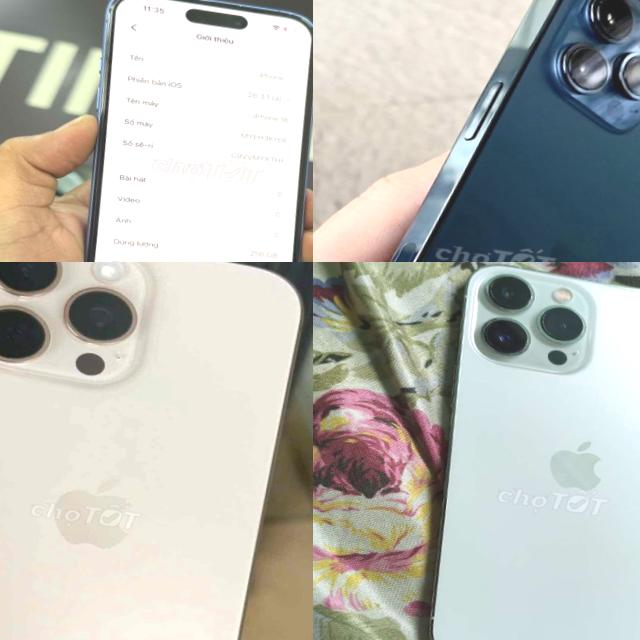gen_12_13: (409, 262, 640, 640), (313, 0, 640, 262)
gen_16: (0, 262, 301, 640), (85, 0, 313, 262)
